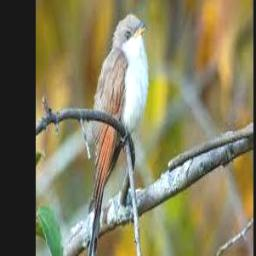Cuckoo: (83, 13, 148, 256)
